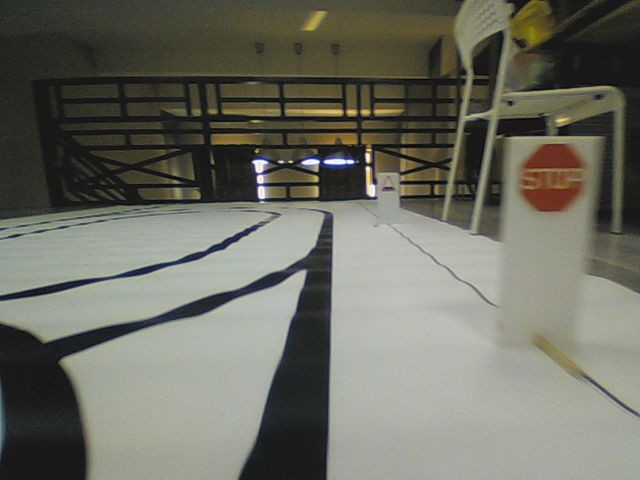Stop: (518, 140, 587, 215)
